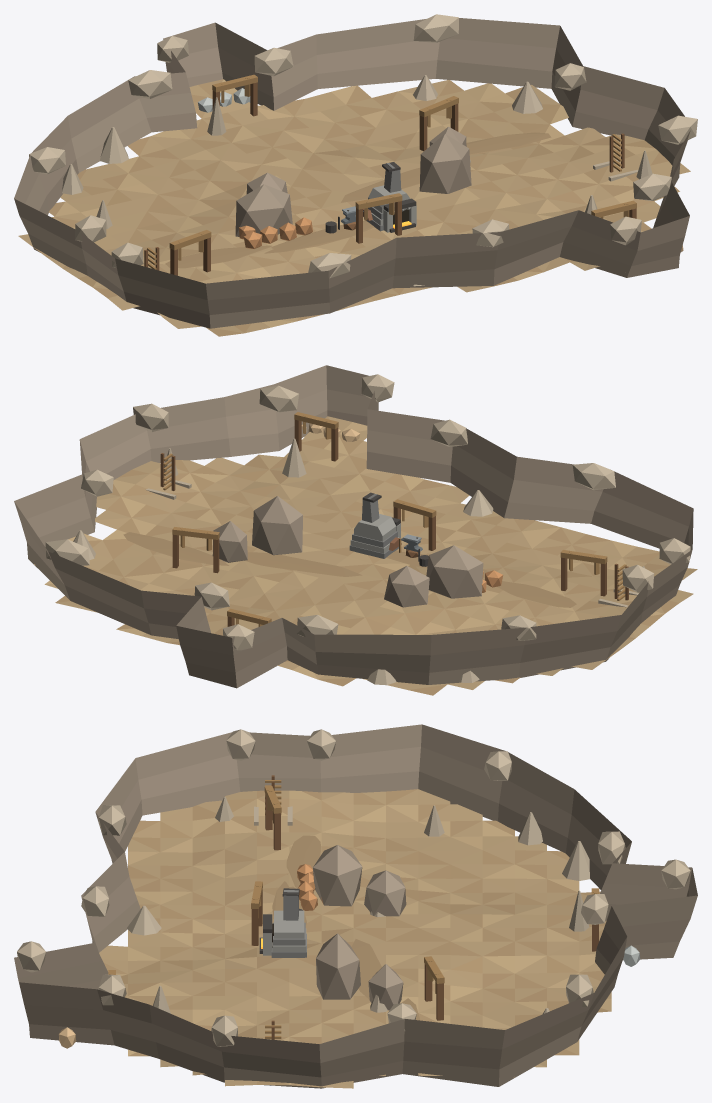
Rendered from holm_training_cavern_v1.glb.
3 views of the same model, one above another, from view 1: azimuth 30°, elevation 25°; view 2: azimuth 150°, elevation 25°; view 3: azimuth 270°, elevation 25° (orthographic). The views are drawn at different scales.
Visible parts, largest first — view 1: HandHewnPerimeter, CavernFloor, InteriorPillar_2, InteriorPillar_0, WornRoute_1, WallCrown_14, WornRoute_3, WallCrown_20, WornRoute_0, WallCrown_16, WallCrown_10, WallCrown_08 (+11 smaller); view 2: HandHewnPerimeter, CavernFloor, InteriorPillar_2, InteriorPillar_0, InteriorPillar_1, WornRoute_2, WornRoute_3, InteriorPillar_3, WornRoute_0, WallCrown_02, WallCrown_08, WallCrown_10 (+13 smaller); view 3: CavernFloor, HandHewnPerimeter, InteriorPillar_0, InteriorPillar_2, InteriorPillar_1, InteriorPillar_3, WornRoute_0, WornRoute_2, WallCrown_20, Stalagmite_2, WallCrown_04, WallCrown_16 (+11 smaller).
Part boxes in pixels (left/top/right/bottom): HandHewnPerimeter: left=14, top=18, right=690, bottom=328; CavernFloor: left=18, top=79, right=690, bottom=336; InteriorPillar_2: left=419, top=134, right=471, bottom=193; InteriorPillar_0: left=235, top=184, right=292, bottom=236; WornRoute_1: left=264, top=220, right=374, bottom=253; WallCrown_14: left=413, top=14, right=458, bottom=42; WornRoute_3: left=466, top=132, right=551, bottom=154; WallCrown_20: left=128, top=70, right=172, bottom=98; WornRoute_0: left=165, top=245, right=271, bottom=268; WallCrown_16: left=254, top=47, right=293, bottom=76; WallCrown_10: left=658, top=115, right=697, bottom=144; WallCrown_08: left=633, top=173, right=671, bottom=200; HandHewnPerimeter: left=14, top=365, right=693, bottom=688; CavernFloor: left=34, top=416, right=697, bottom=695; InteriorPillar_2: left=252, top=496, right=302, bottom=555; InteriorPillar_0: left=426, top=545, right=483, bottom=598; InteriorPillar_1: left=384, top=566, right=429, bottom=607; WornRoute_2: left=241, top=552, right=362, bottom=576; WornRoute_3: left=123, top=532, right=229, bottom=565; InteriorPillar_3: left=212, top=521, right=247, bottom=562; WornRoute_0: left=483, top=578, right=576, bottom=607; WallCrown_02: left=572, top=463, right=615, bottom=490; WallCrown_08: left=259, top=385, right=299, bottom=412; WallCrown_10: left=133, top=403, right=168, bottom=431; CavernFloor: left=99, top=789, right=611, bottom=1088; HandHewnPerimeter: left=14, top=724, right=697, bottom=1088; InteriorPillar_0: left=313, top=845, right=362, bottom=906; InteriorPillar_2: left=316, top=933, right=360, bottom=999; InteriorPillar_1: left=364, top=870, right=406, bottom=916; InteriorPillar_3: left=368, top=964, right=403, bottom=1010; WornRoute_0: left=286, top=835, right=320, bottom=887; WornRoute_2: left=351, top=939, right=381, bottom=999; WallCrown_20: left=598, top=831, right=625, bottom=864; Stalagmite_2: left=562, top=841, right=589, bottom=880; WallCrown_04: left=81, top=886, right=109, bottom=916; WallCrown_16: left=581, top=894, right=608, bottom=924.
Size of the model in its own units: 46.67 by 6.13 by 42.45.
